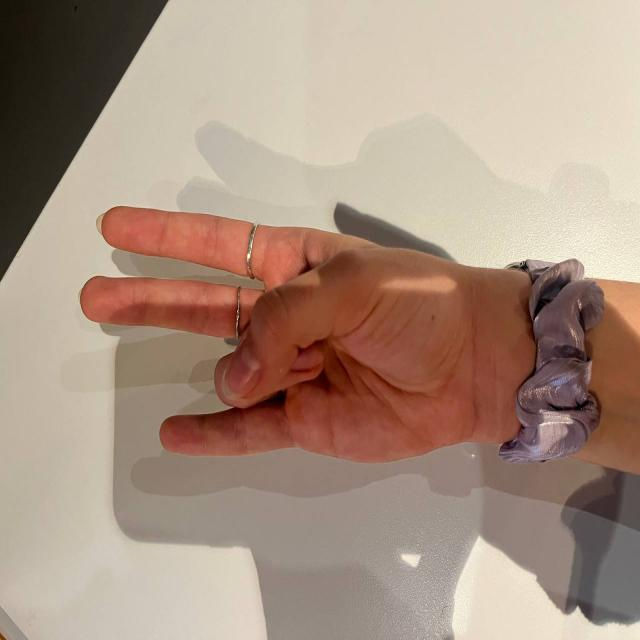n: (59, 182, 465, 485)
